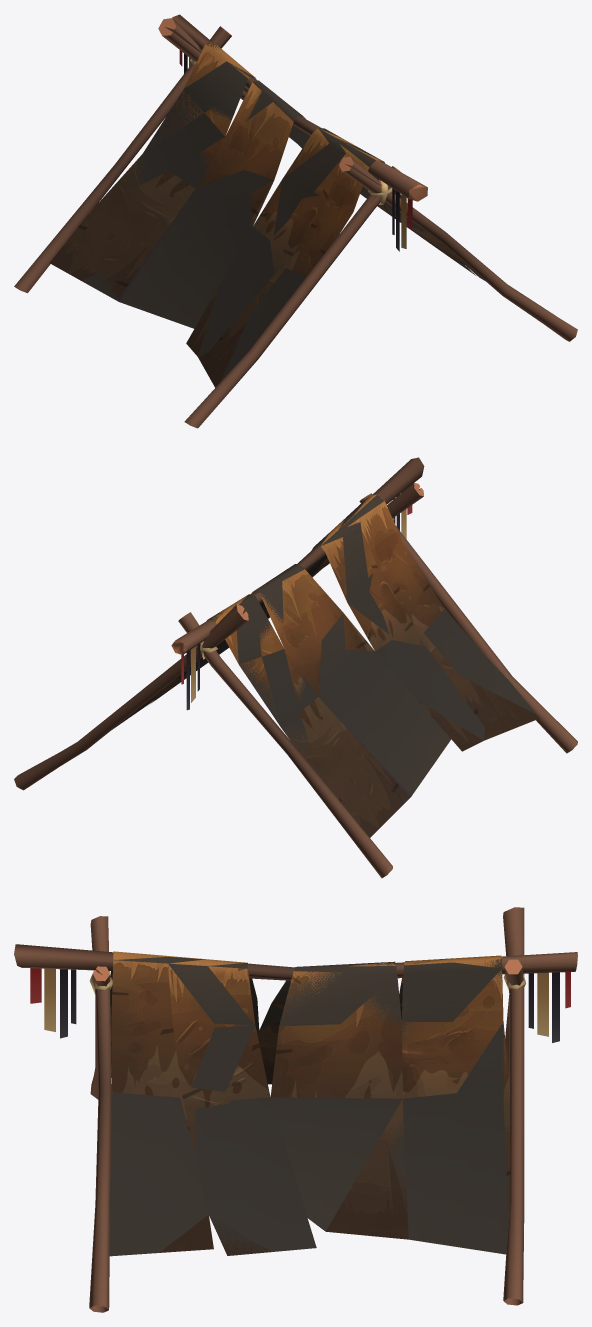
The model's file is Tent_1A.FBX.
The picture shows the model from 3 angles, top to bottom: view 1: azimuth 30°, elevation 25°; view 2: azimuth 150°, elevation 25°; view 3: azimuth 270°, elevation 25°; orthographic projection. The views are drawn at different scales.
Visible parts, largest first — view 1: Tent_1A; view 2: Tent_1A; view 3: Tent_1A.
Boxes of the visible parts, x1=… form: Tent_1A: x1=14, y1=14, x2=577, y2=428; Tent_1A: x1=14, y1=457, x2=577, y2=878; Tent_1A: x1=14, y1=907, x2=577, y2=1312.
Bounding box in the file's own units: 499 × 299 × 538.
